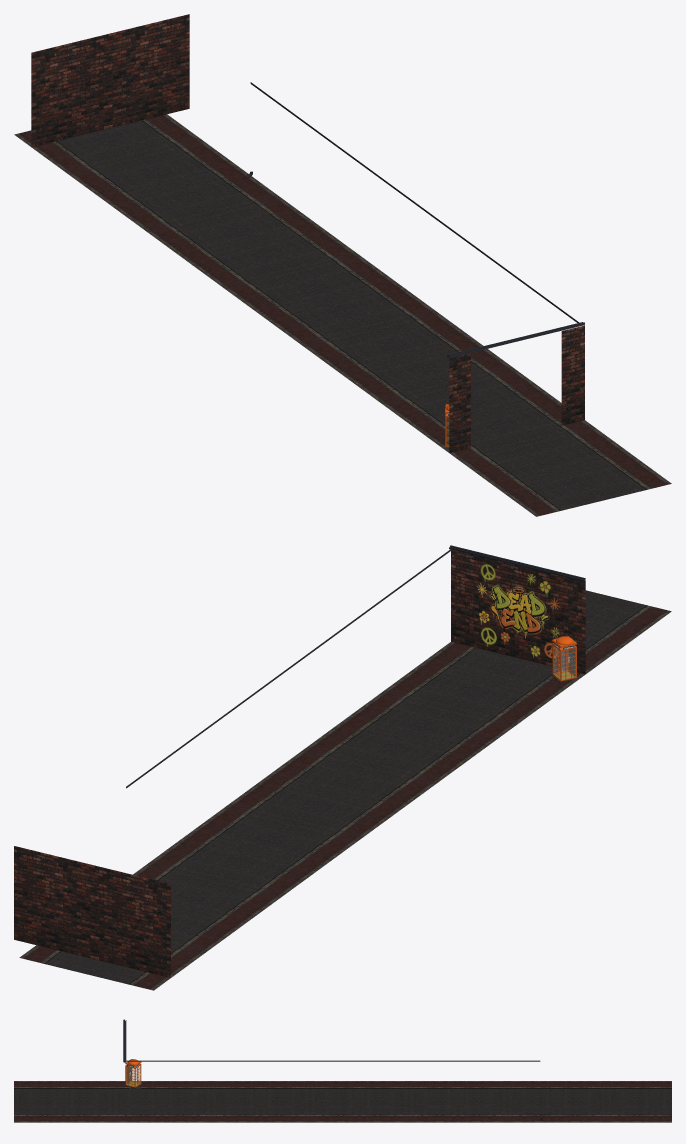
The model's file is street.glb.
3 views of the same model, one above another, from view 1: azimuth 30°, elevation 25°; view 2: azimuth 150°, elevation 25°; view 3: azimuth 270°, elevation 25° (orthographic). The views are drawn at different scales.
Visible parts, largest first — view 1: outdoorFloor, westRearGapWall, leftFillWall, rightFillWall, gutterOuter; view 2: outdoorFloor, westRearGapWall, muralWall, leftFillWall, rightFillWall, gutterOuter, PHONE__booth; view 3: outdoorFloor, gutterOuter, PHONE__booth.
Part boxes in pixels (x1,y1,x2,y2): outdoorFloor: [14, 114, 671, 516]; westRearGapWall: [31, 14, 189, 147]; leftFillWall: [561, 325, 584, 425]; rightFillWall: [449, 353, 470, 452]; gutterOuter: [250, 82, 581, 325]; outdoorFloor: [19, 590, 671, 990]; westRearGapWall: [14, 846, 170, 977]; muralWall: [474, 555, 563, 668]; leftFillWall: [451, 550, 474, 647]; rightFillWall: [564, 577, 585, 674]; gutterOuter: [126, 547, 453, 788]; PHONE__booth: [551, 636, 577, 682]; outdoorFloor: [14, 1081, 671, 1122]; gutterOuter: [125, 1060, 540, 1061]; PHONE__booth: [125, 1059, 141, 1088].
Size of what is drawn, in the model's own units: 21 by 12.35 by 120.
Materials: 18 (8 with a texture image).
